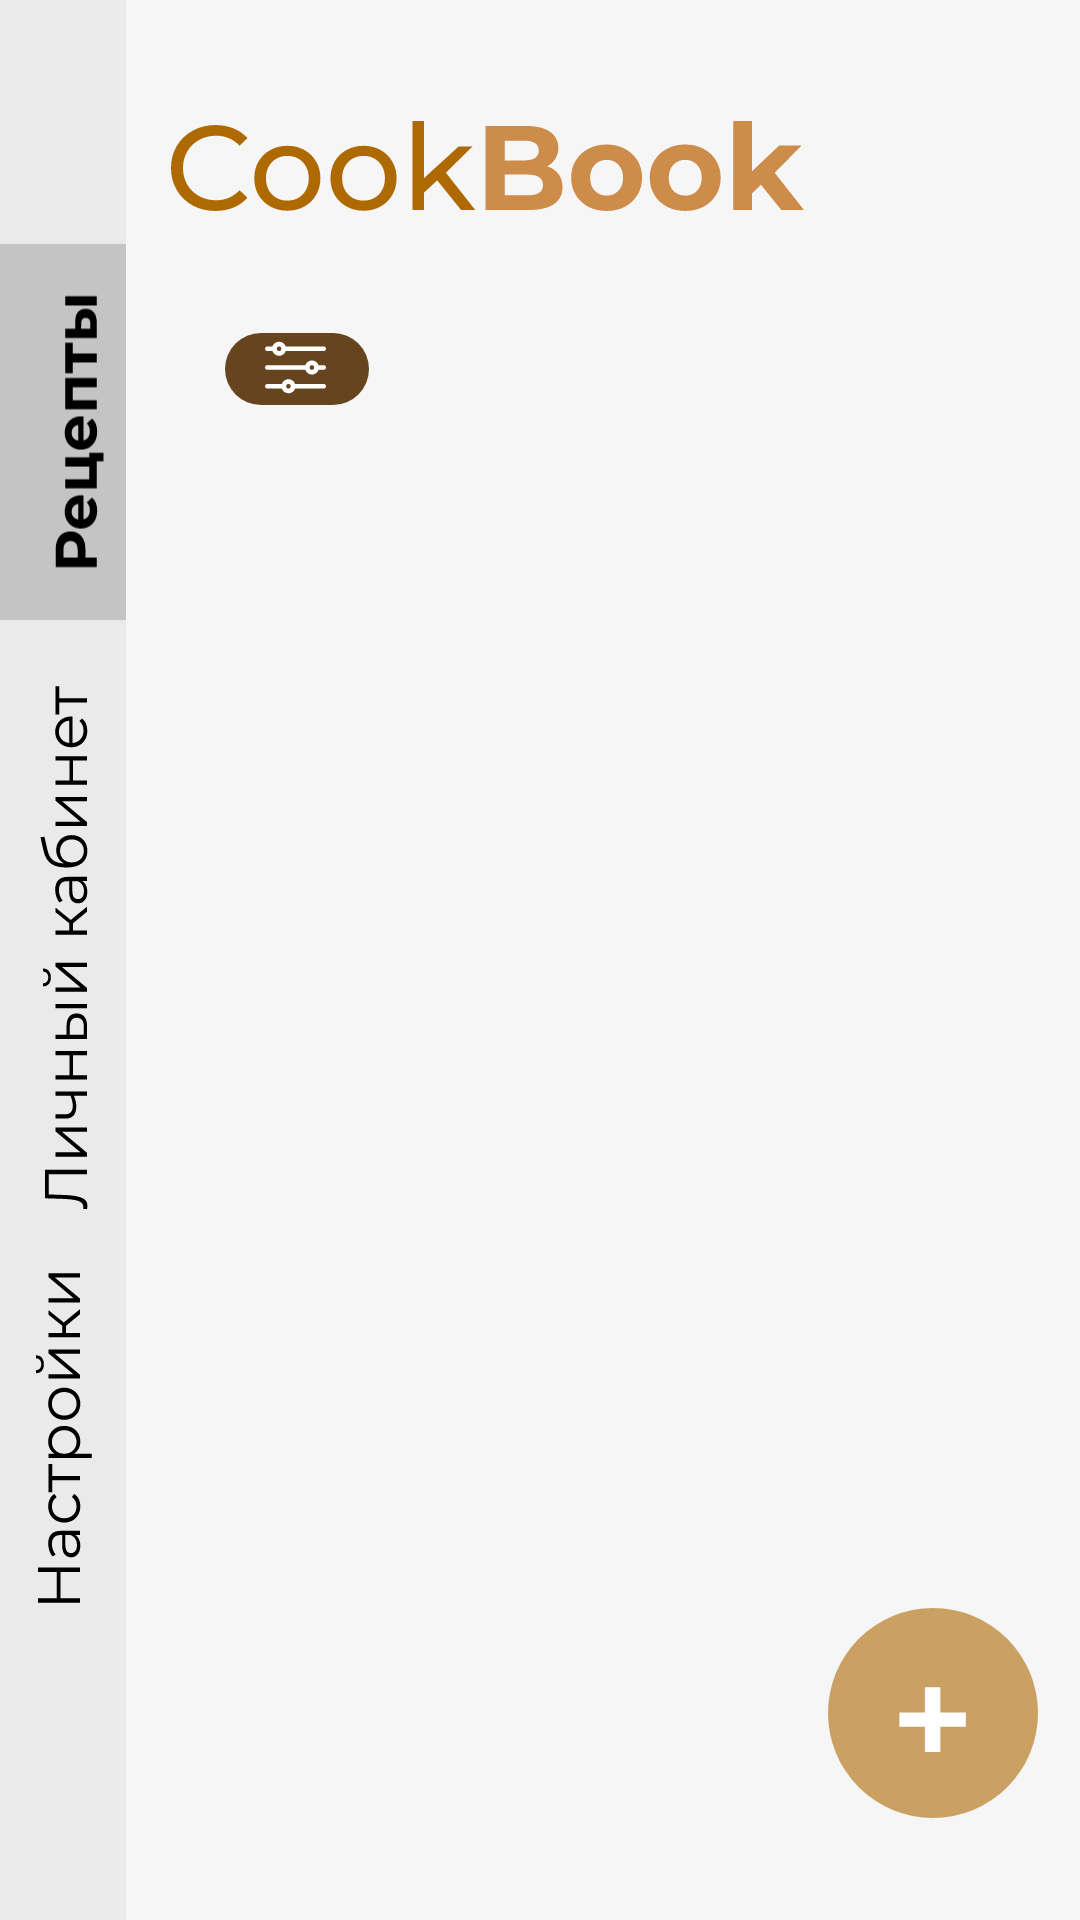

Icon bounding boxes for this 1080px x 1920px phone screenshot, format bbox=[x1, y1, x2, y2]:
category: bbox=[225, 333, 369, 405]
createresipes: bbox=[828, 1608, 1038, 1818]
